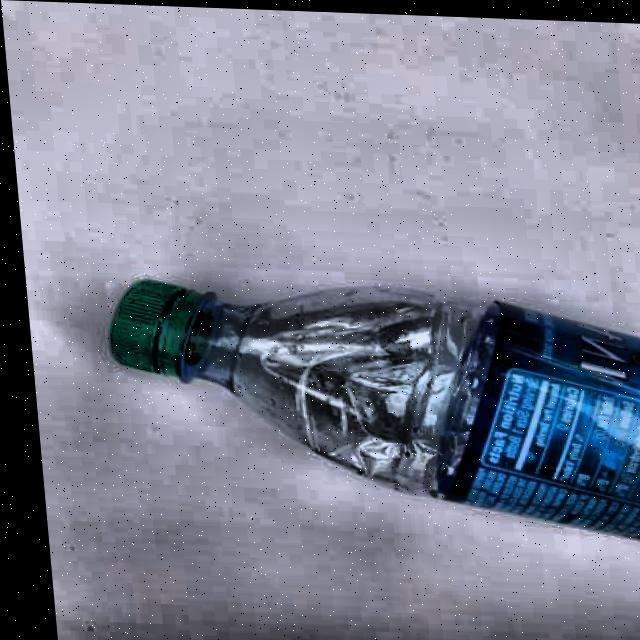plastic: (89, 270, 640, 554)
